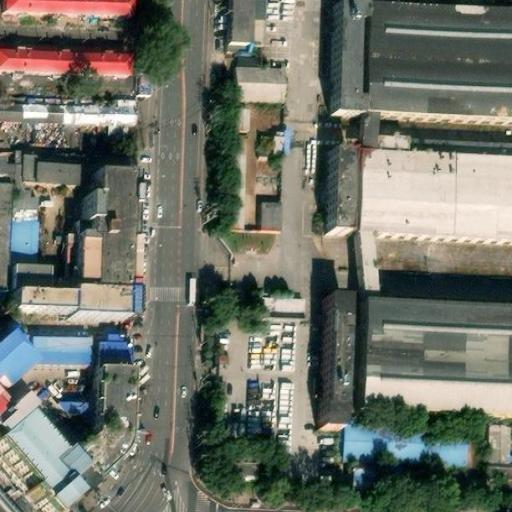building: (356, 149, 512, 295), (363, 299, 512, 418), (0, 413, 85, 506), (76, 171, 138, 291), (0, 331, 87, 398), (345, 424, 469, 464), (315, 295, 350, 429), (98, 367, 136, 473), (0, 99, 140, 126), (0, 50, 134, 78), (229, 124, 255, 229), (3, 0, 136, 18), (72, 289, 138, 319), (236, 67, 288, 102), (338, 148, 360, 230), (228, 0, 264, 45), (0, 398, 36, 443), (483, 420, 512, 464), (49, 481, 88, 512), (13, 292, 73, 312), (13, 219, 40, 262), (12, 261, 53, 289), (99, 332, 130, 368), (259, 291, 305, 313), (36, 164, 82, 184), (0, 152, 23, 182), (360, 116, 380, 149), (64, 237, 78, 284), (259, 202, 280, 232), (21, 157, 36, 183), (139, 72, 153, 93)
